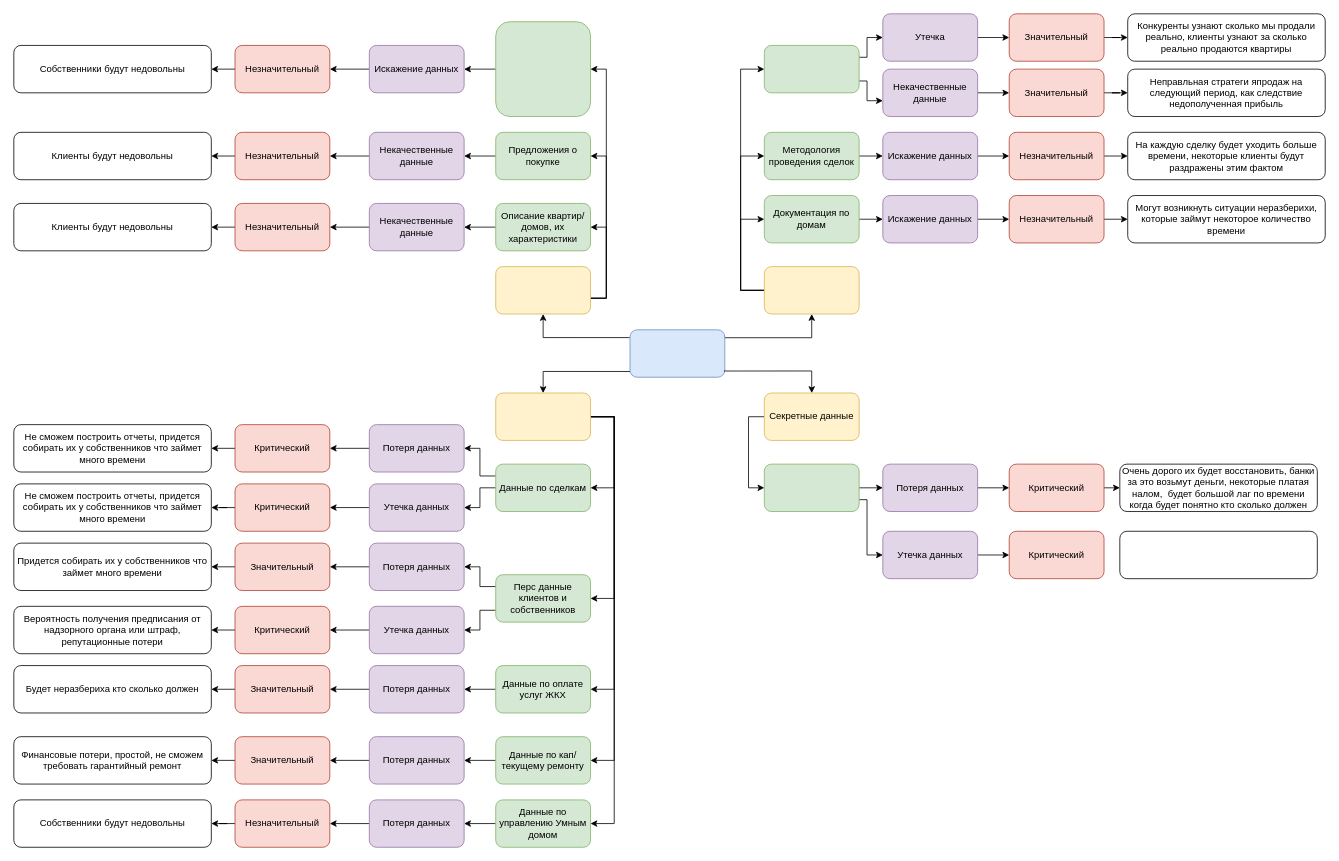
This 1339x861 diagram has some shape labels left out. Here are the shapes that lost their labels. From the top down, the centre of each, then its label:
At pixel 543 69: "Инфа от УК (Объявления о отключение гор.воды, проведения собраний собственников)".
At pixel 811 69: "Отчеты по продажам".
At pixel 543 290: "Публичные данные".
At pixel 811 290: "Внутренние данные".
At pixel 677 353: "Безопасность данных".
At pixel 543 416: "Конфиденциальные данные".
At pixel 811 487: "Данные по платежам за квартиры и ЖКХ".
At pixel 1218 554: "Вероятность получения предписания от надзорного органа или штраф".
